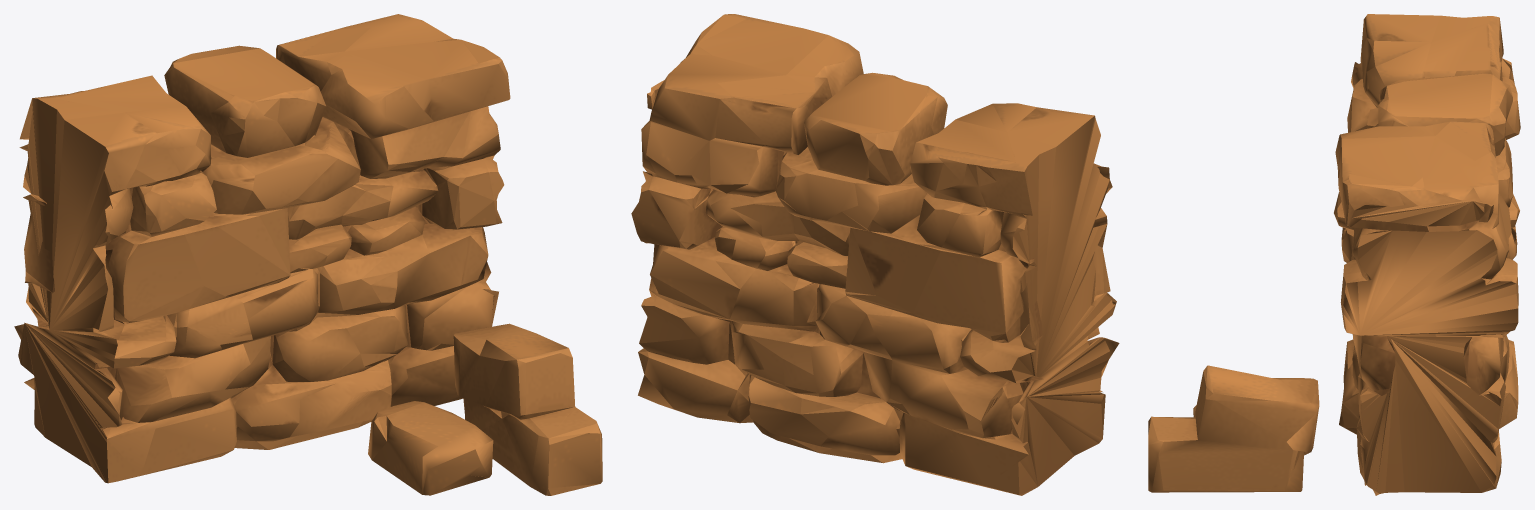
The model's file is cover_half_temple_v3.glb.
The picture shows the model from 3 angles, left to right: view 1: azimuth 30°, elevation 25°; view 2: azimuth 150°, elevation 25°; view 3: azimuth 270°, elevation 25°; orthographic projection. The views are drawn at different scales.
Bounding box in the file's own units: 0.9773 × 0.7885 × 0.8501.
1 material, 1 textured.
